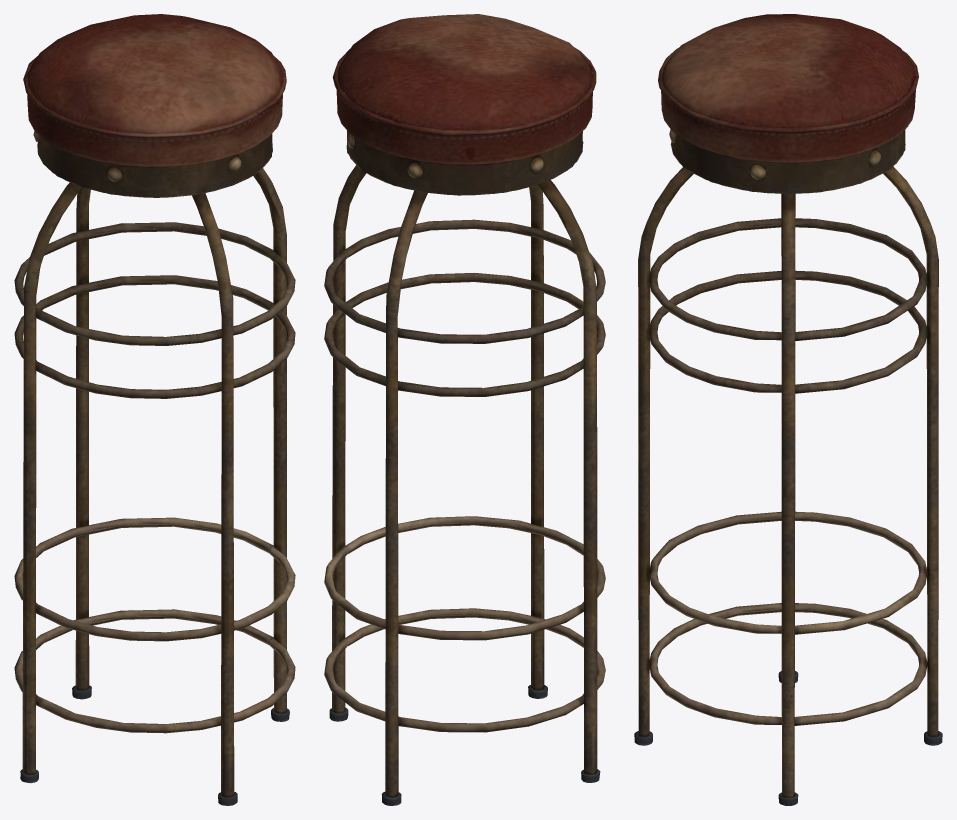
File: metal_stool_01.glb
3 views of the same model, side by side, from view 1: azimuth 30°, elevation 25°; view 2: azimuth 150°, elevation 25°; view 3: azimuth 270°, elevation 25° (orthographic).
Visible parts, largest first — view 1: metal_stool_01; view 2: metal_stool_01; view 3: metal_stool_01.
Boxes of the visible parts, x1=… form: metal_stool_01: x1=14, y1=14, x2=295, y2=805; metal_stool_01: x1=324, y1=14, x2=605, y2=805; metal_stool_01: x1=634, y1=14, x2=942, y2=805.
Size of the model in its own units: 0.352 by 0.8826 by 0.3546.
1 material, 1 textured.
